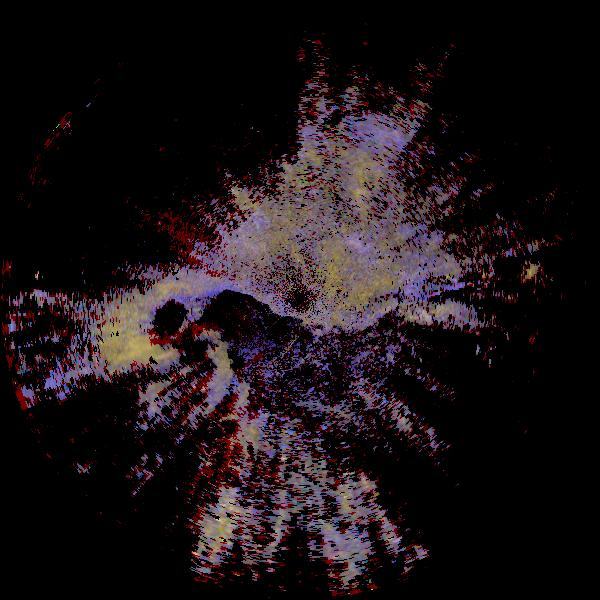roost: (125, 308, 248, 431)
